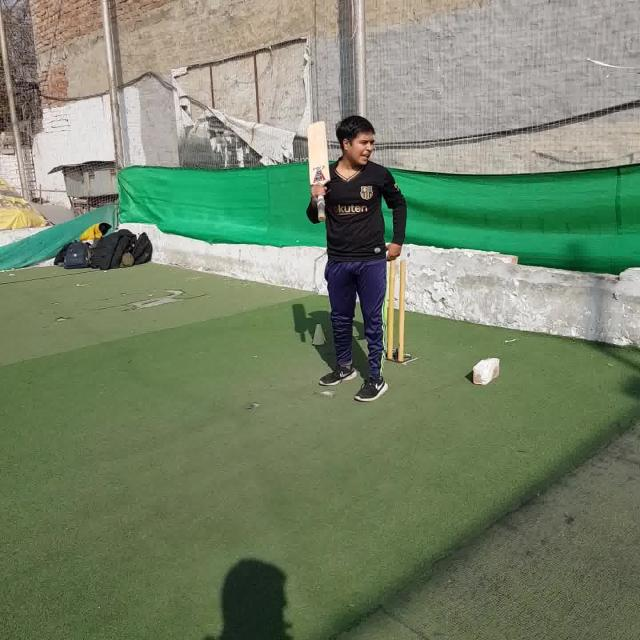bat: (306, 121, 330, 222)
